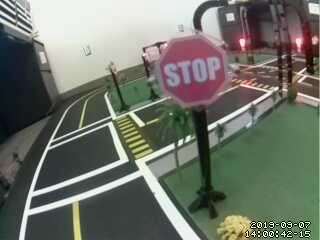Stop_Sign: (153, 29, 230, 105)
